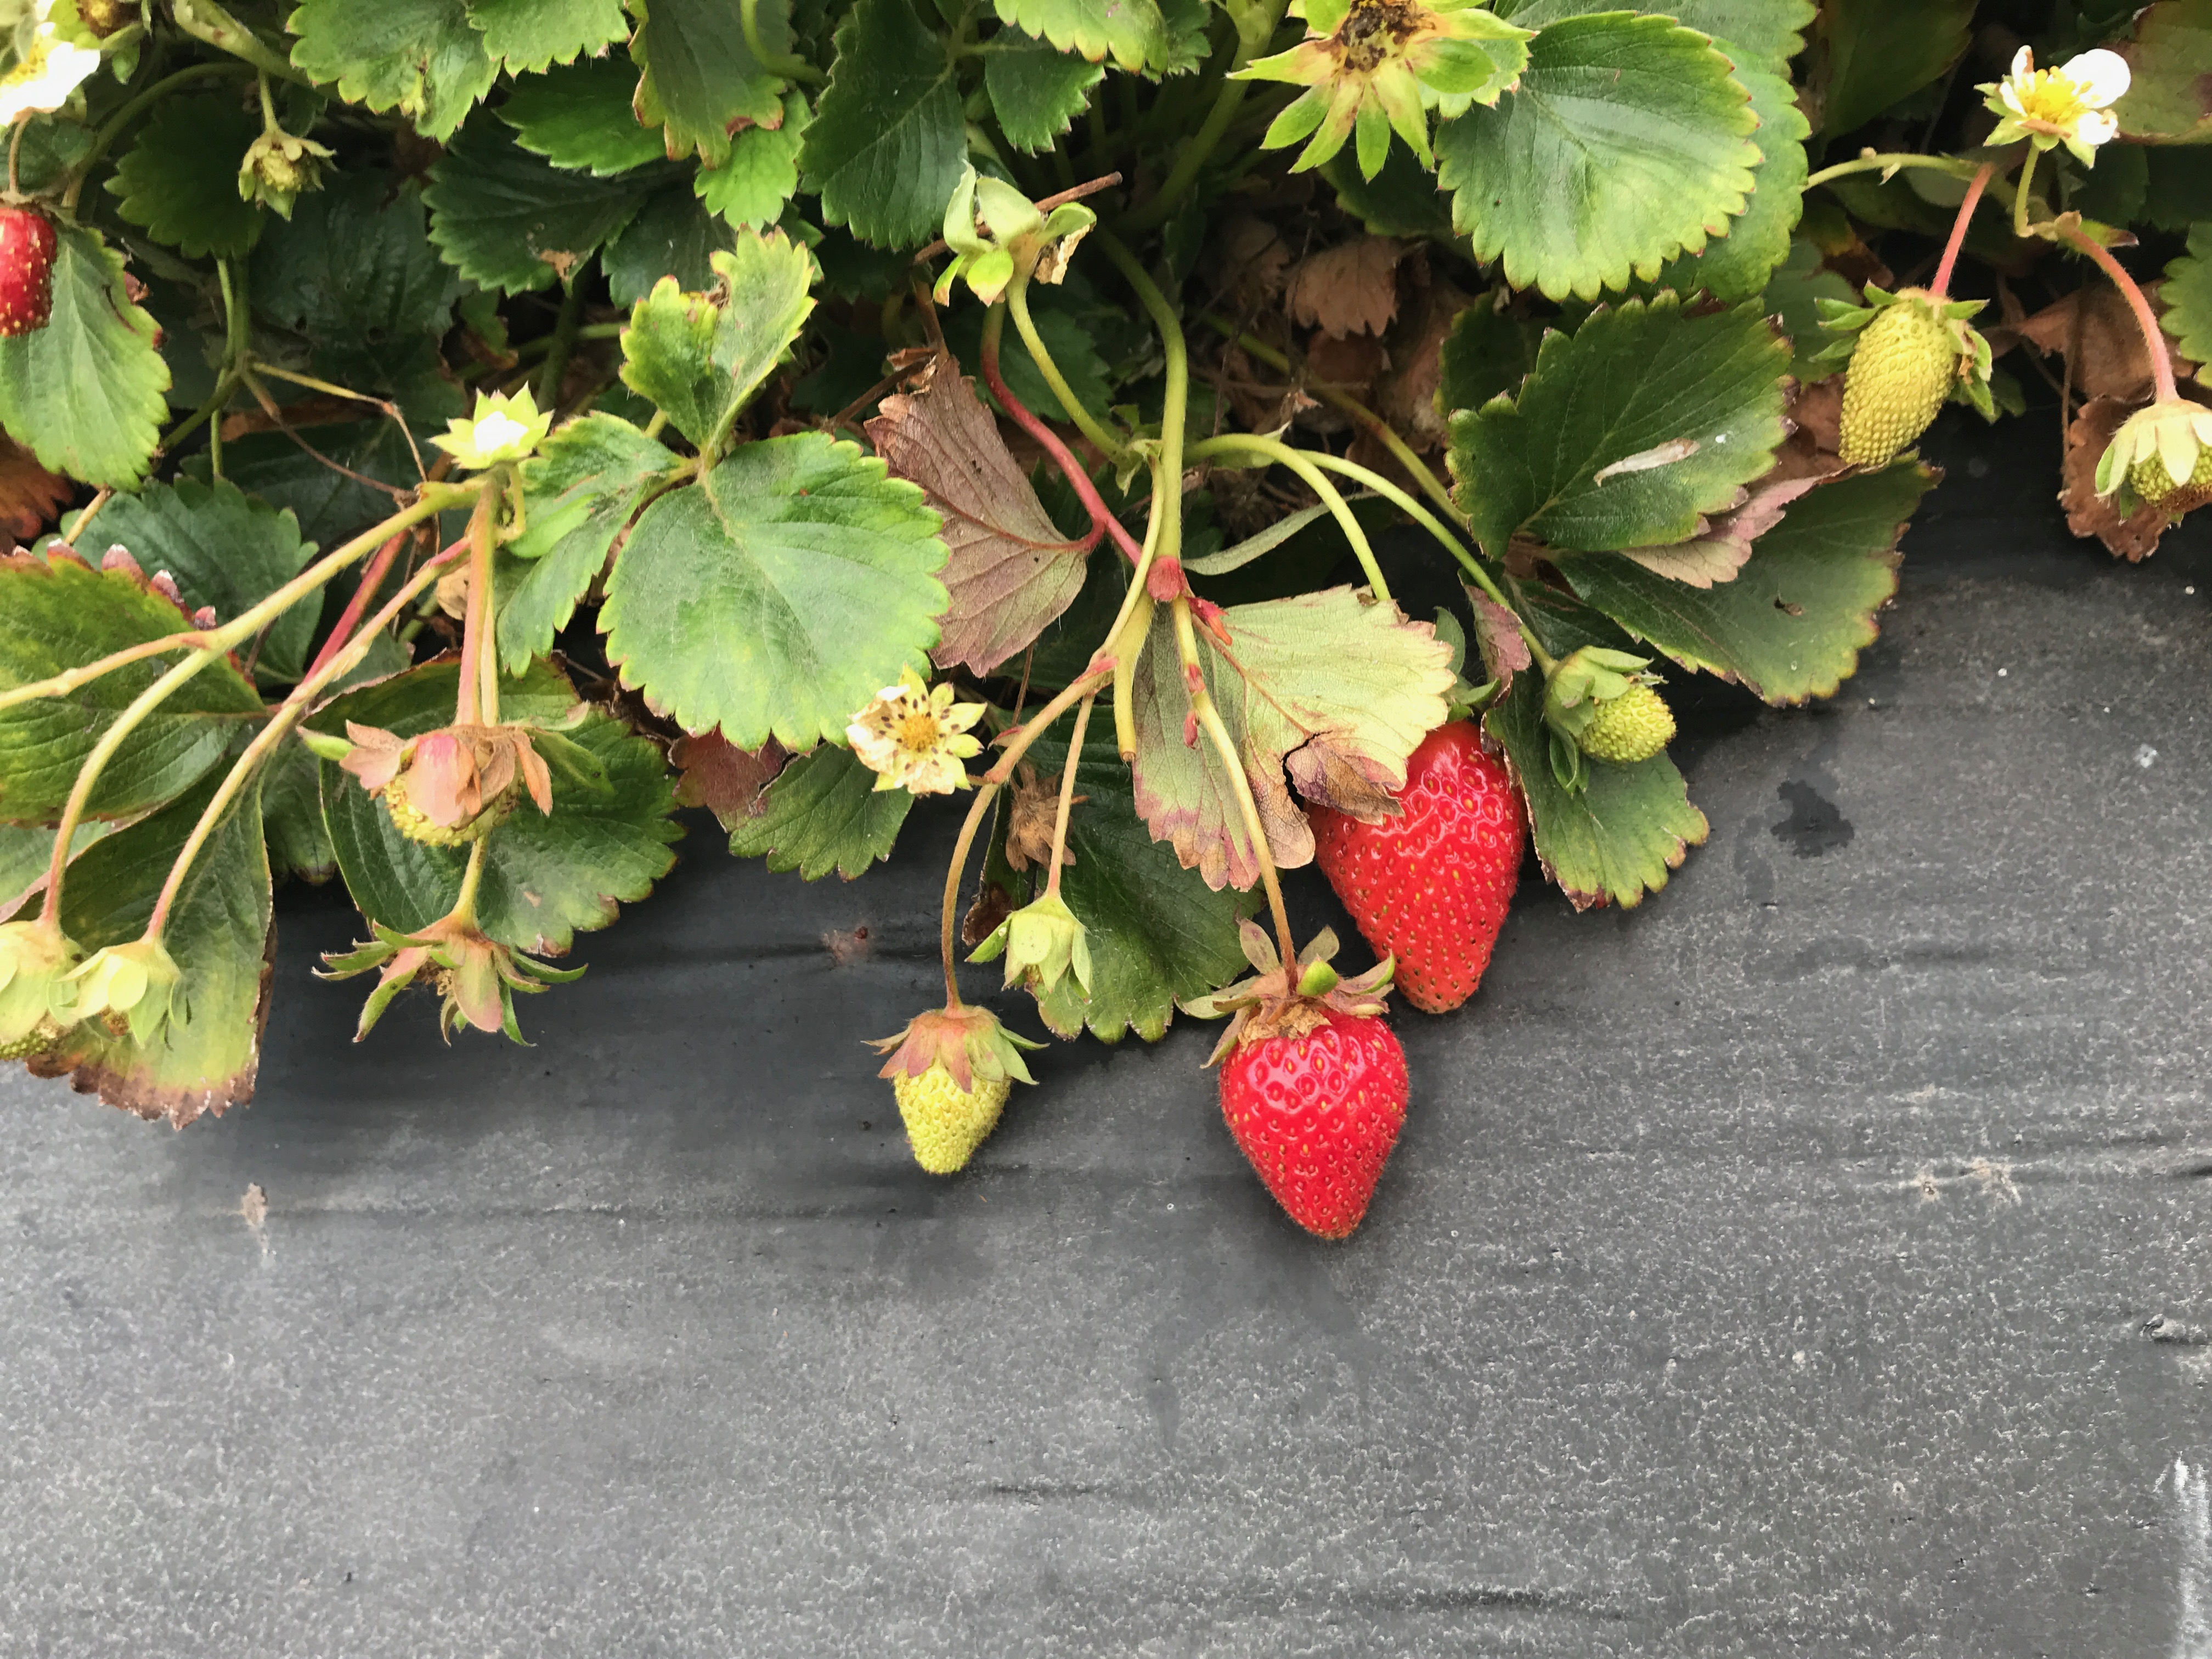ripe_strawberry: (1301, 708, 1529, 1019), (1207, 974, 1420, 1248), (0, 183, 66, 345)
unripe_strawberry: (1829, 288, 1984, 474), (885, 1002, 1022, 1183), (374, 720, 529, 852), (1545, 659, 1689, 769), (2116, 397, 2212, 516)
